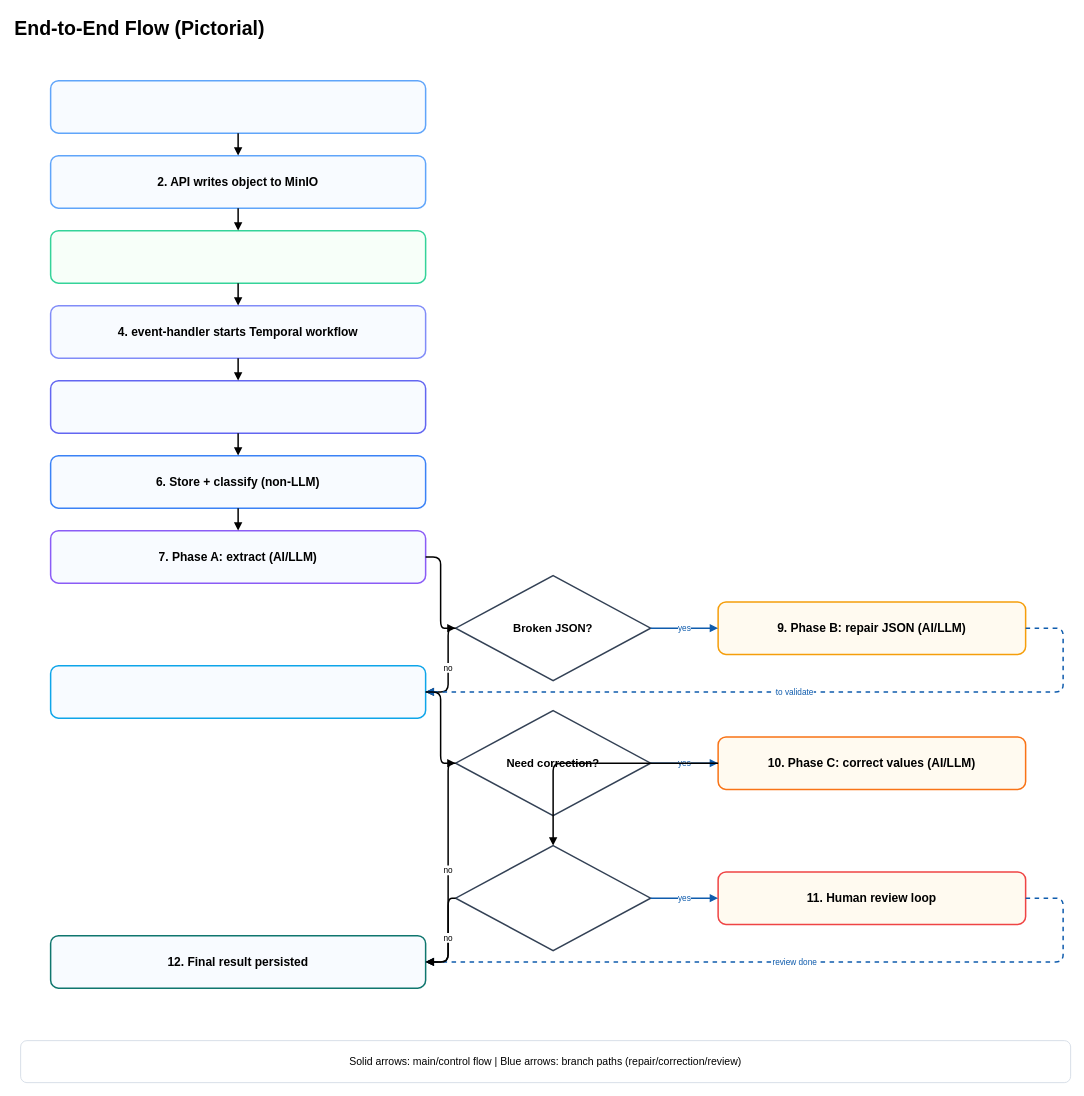
The diagram is 1084 pixels wide and 1096 high, and some of its shapes have lost their labels. Here are the shapes that lost their labels. From the top down, the centre of each, then its label:
At pixel 238 107: "1. Upload document via API".
At pixel 238 257: "3. MinIO emits ObjectCreated event".
At pixel 238 407: "5. Workflow runs in worker".
At pixel 238 691: "8. Validate rules + confidence".
At pixel 552 897: "Still risky?".
